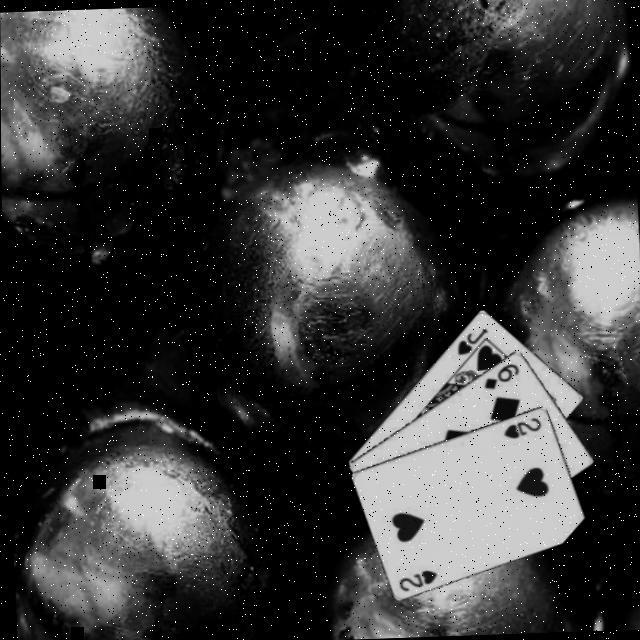2H: (392, 564, 437, 592), (497, 412, 541, 439)
6D: (478, 358, 519, 390)
JH: (450, 322, 487, 355)
